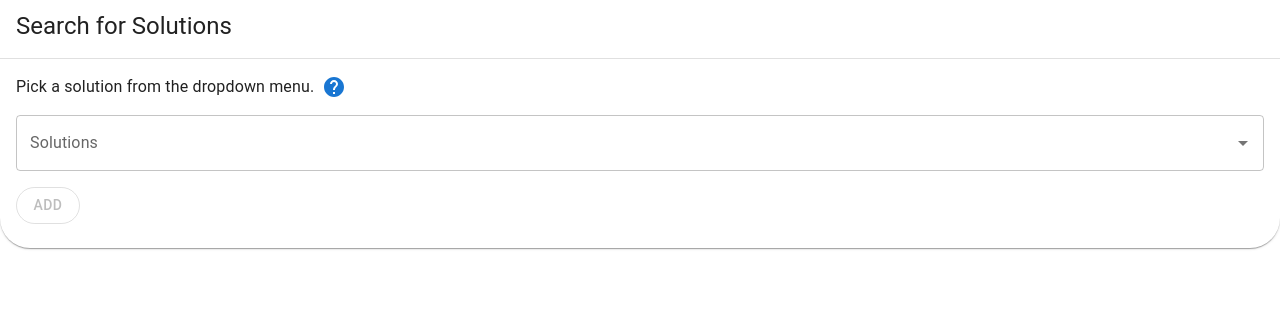
it: SolutionsList › displays select menu items correctly
Press the mouse on the dropdown labelled "Solutions" at (625, 143), box [25,124,1225,162]
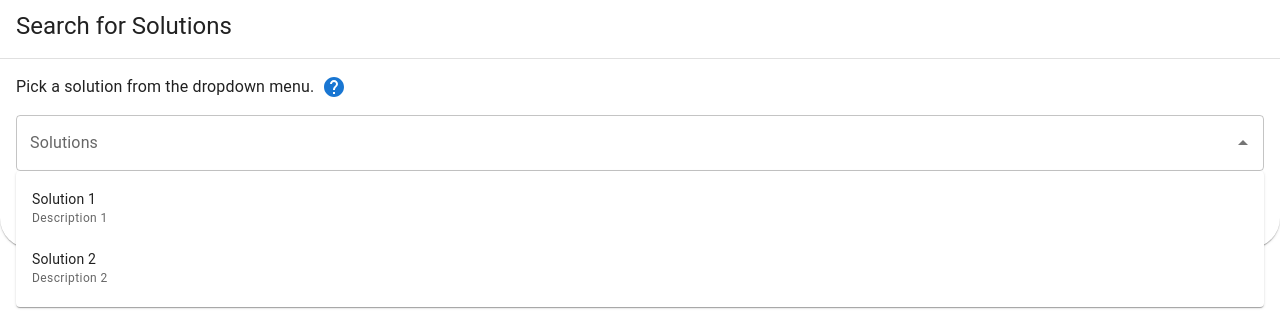
expect the text "Solution 1" is shown: met, box [32,191,96,207]
expect the text "Solution 2" is shown: met, box [32,251,96,267]
